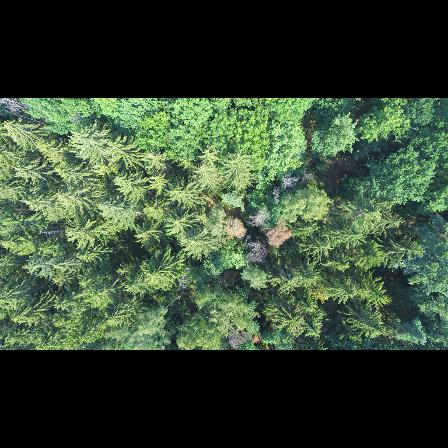Dead: (243, 238, 271, 267), (282, 172, 298, 192)
